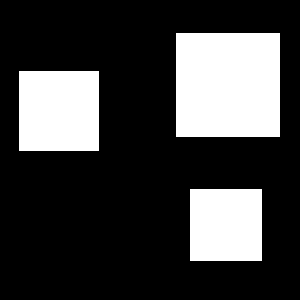circle: (176, 33, 280, 137), (19, 71, 99, 151), (190, 189, 262, 261)
